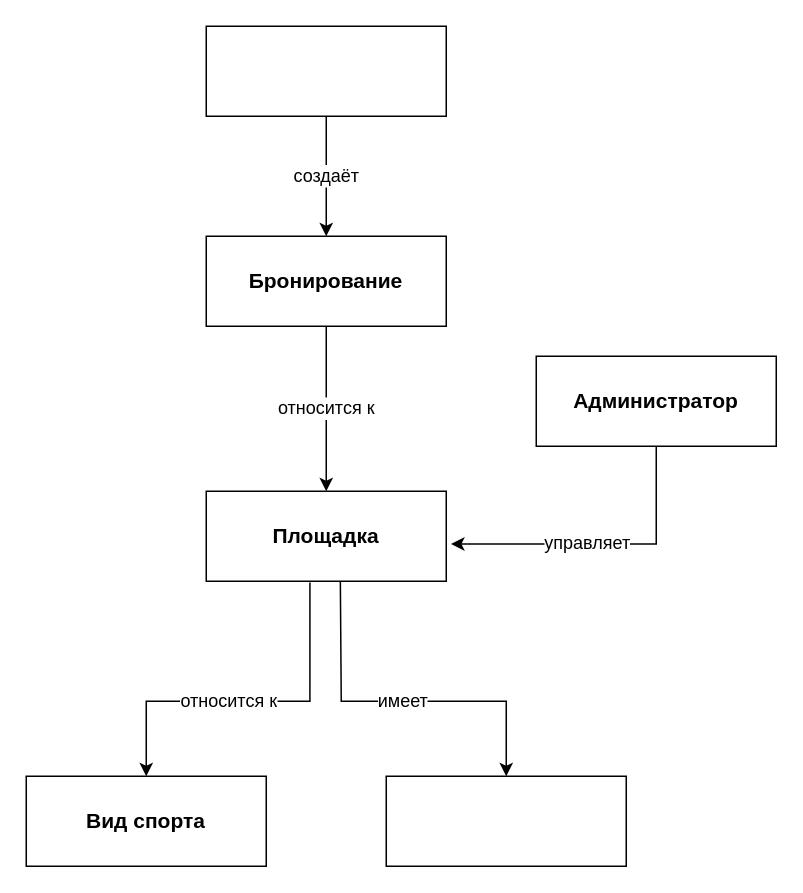
The diagram is 803 pixels wide and 893 high, and some of its shapes have lost their labels. Each missing label, with the centre of its shape:
"Пользователь" goes at (325,70).
"Расписание" goes at (505,820).
